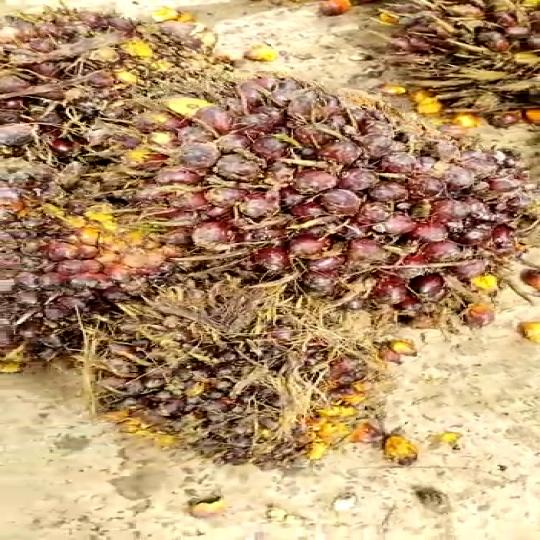kurang masak: (0, 1, 540, 457)
